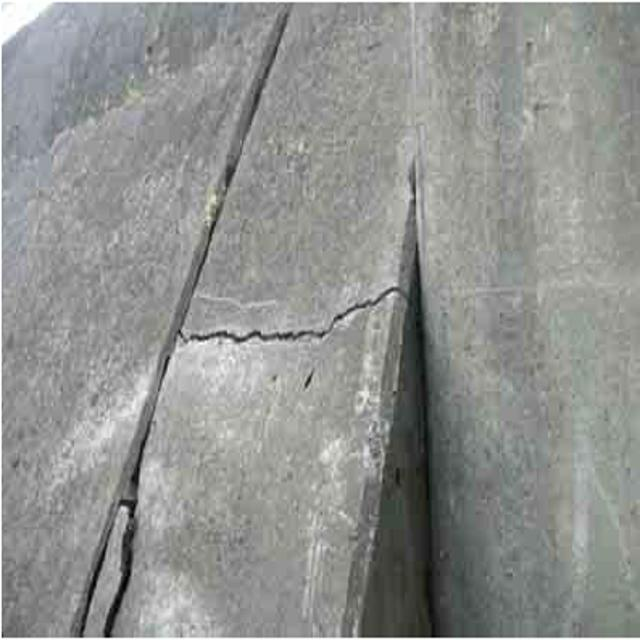crack: (153, 260, 433, 350)
